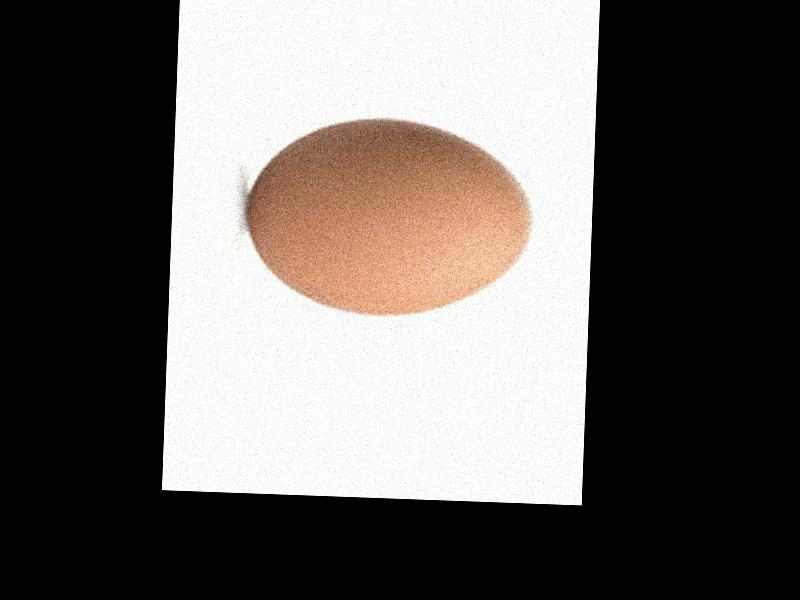Eggs: (241, 114, 532, 318)
